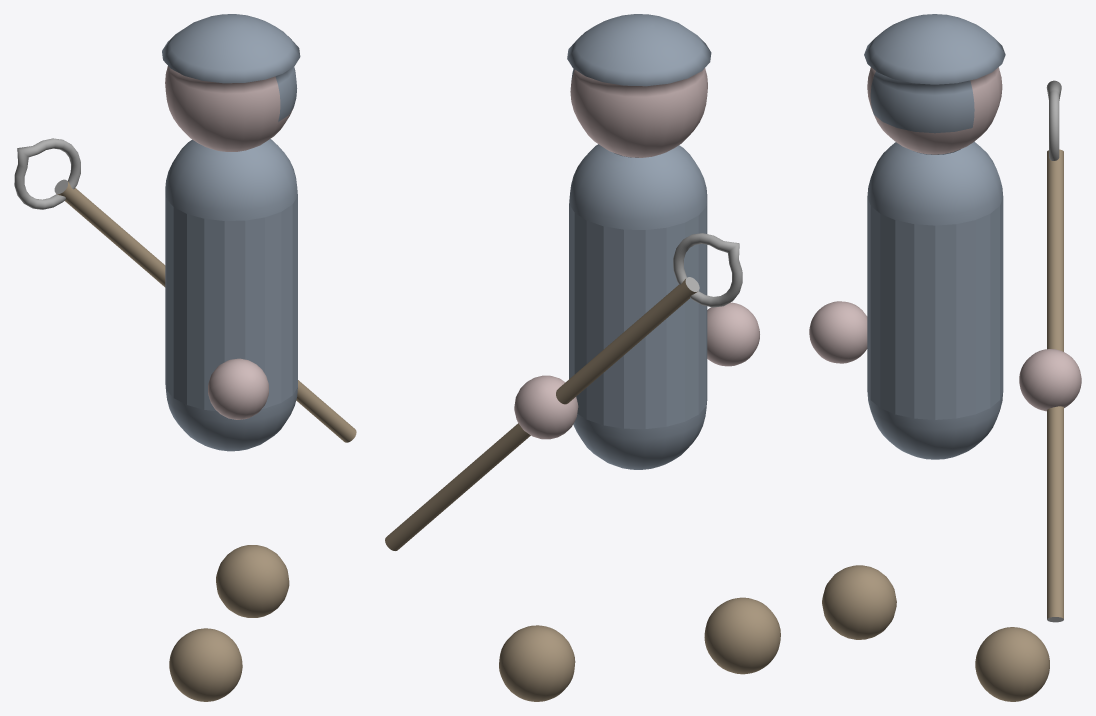
The model's file is rayman_healer_mesh_noAni.fbx.
3 views of the same model, side by side, from view 1: azimuth 30°, elevation 25°; view 2: azimuth 150°, elevation 25°; view 3: azimuth 270°, elevation 25° (orthographic). The views are drawn at different scales.
Visible parts, largest first — view 1: polySurface5, polySurface4, staff, polySurface8, polySurface9, polySurface7; view 2: polySurface5, polySurface4, staff, polySurface8, polySurface9, polySurface6, polySurface7; view 3: polySurface5, polySurface4, staff, polySurface9, polySurface8, polySurface6, polySurface7.
Part boxes in pixels (bbox=[...]): polySurface5: bbox=[165, 139, 297, 451]; polySurface4: bbox=[162, 14, 300, 151]; staff: bbox=[14, 138, 356, 442]; polySurface8: bbox=[169, 628, 242, 701]; polySurface9: bbox=[216, 545, 289, 617]; polySurface7: bbox=[208, 358, 268, 419]; polySurface5: bbox=[569, 144, 707, 469]; polySurface4: bbox=[567, 14, 711, 157]; staff: bbox=[385, 233, 742, 550]; polySurface8: bbox=[704, 597, 780, 674]; polySurface9: bbox=[499, 625, 575, 701]; polySurface6: bbox=[514, 375, 578, 439]; polySurface7: bbox=[707, 302, 759, 366]; polySurface5: bbox=[867, 141, 1003, 459]; polySurface4: bbox=[864, 14, 1005, 154]; staff: bbox=[1046, 80, 1063, 622]; polySurface9: bbox=[975, 627, 1049, 701]; polySurface8: bbox=[822, 565, 896, 639]; polySurface6: bbox=[1019, 349, 1081, 411]; polySurface7: bbox=[809, 301, 867, 363].
Size of the model in its own units: 123 by 218 by 83.37.
